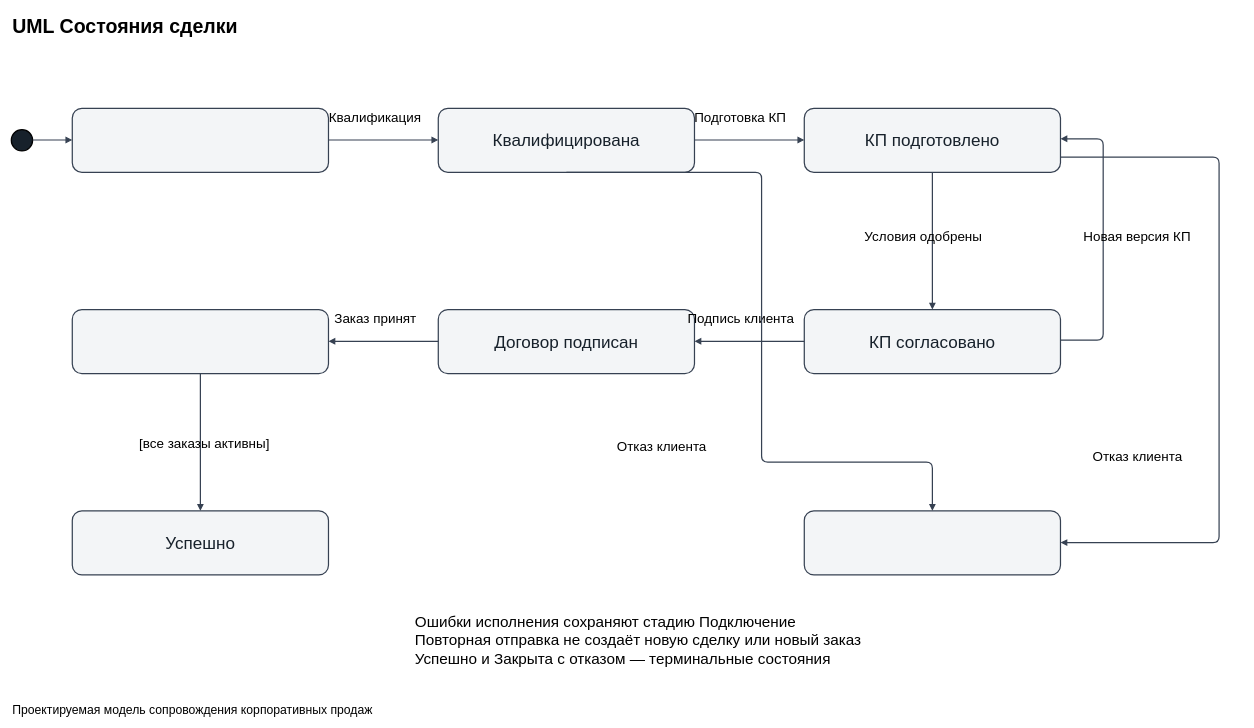
Some shapes in this 1254 by 728 pixel diagram are drawn without their labels. Each missing label, with the box of its shape:
Закрыта с отказом: (803, 510, 1061, 575)
Новая: (71, 107, 329, 173)
Подключение: (71, 309, 329, 374)
